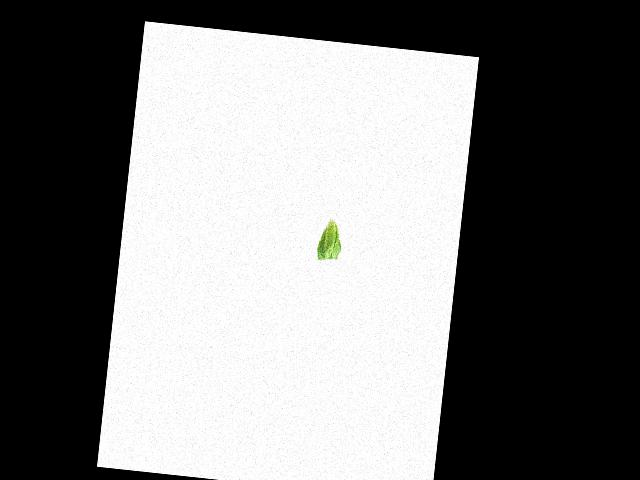lettuce: (312, 216, 347, 264)
